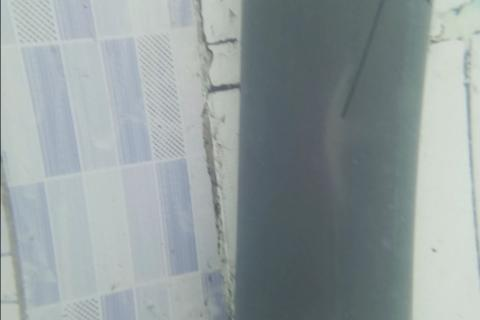keretakan: (338, 0, 386, 117)
